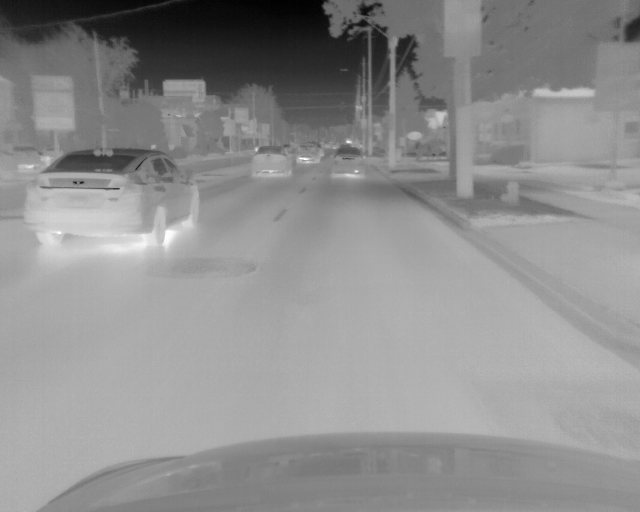car: (23, 148, 202, 253), (249, 144, 293, 178), (329, 147, 367, 181), (292, 143, 321, 164)
